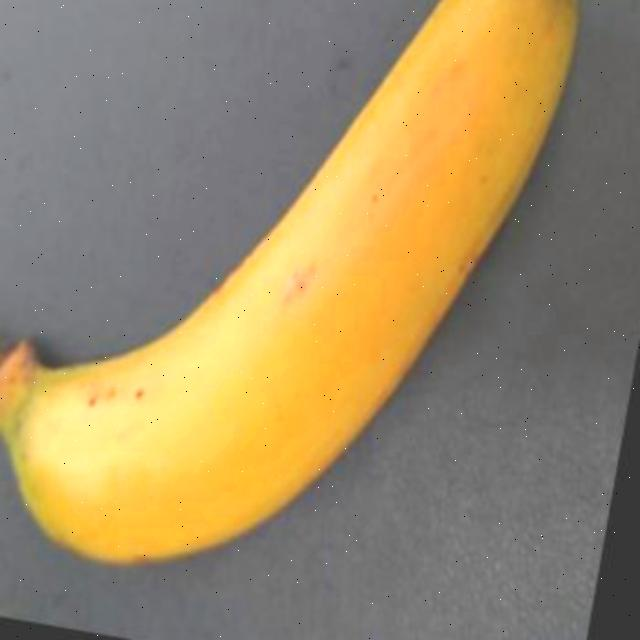Ripe: (0, 0, 594, 596)
